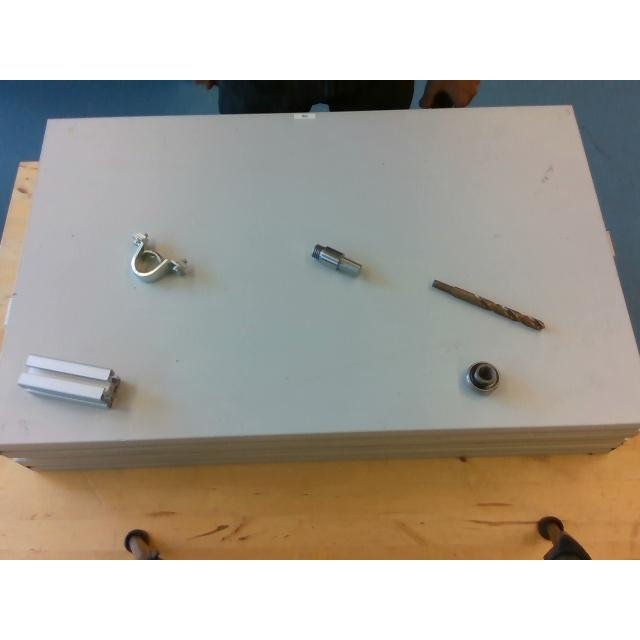Axis2: (310, 244, 362, 276)
Bearing2: (467, 361, 498, 391)
Drill: (431, 279, 543, 329)
Housing: (130, 233, 187, 279)
S40_40_G: (18, 354, 118, 406)
